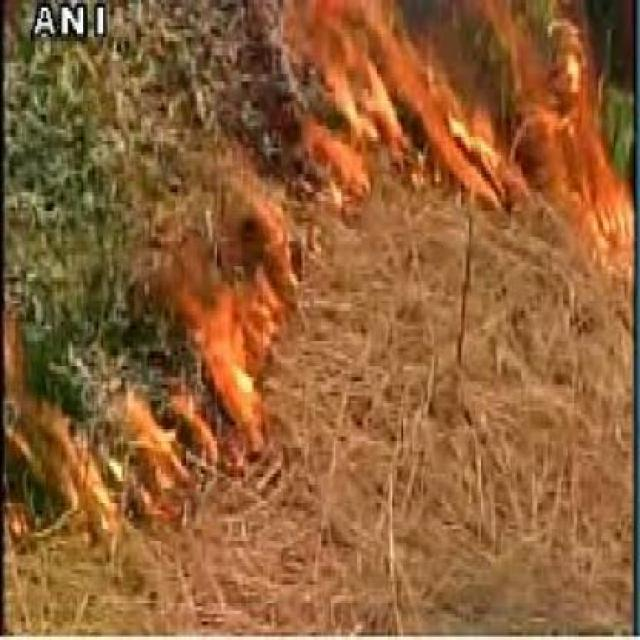Fire: (0, 142, 307, 563), (273, 0, 640, 290)
